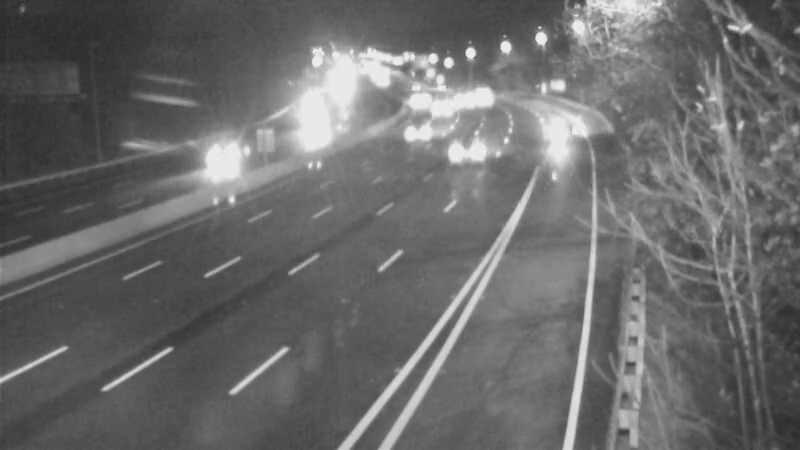vehicle: (424, 112, 504, 192), (186, 119, 266, 199), (394, 71, 444, 121), (434, 76, 484, 126), (415, 84, 465, 134), (531, 114, 581, 164), (393, 105, 443, 155), (284, 115, 334, 165)
